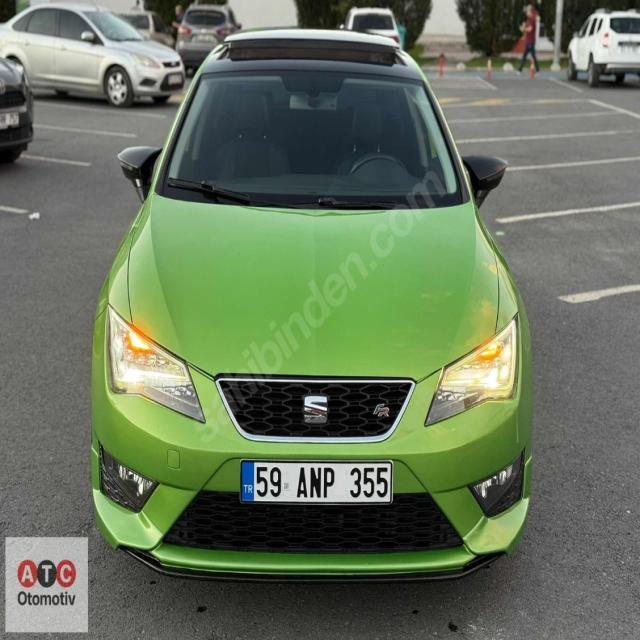seat: (301, 391, 331, 428)
